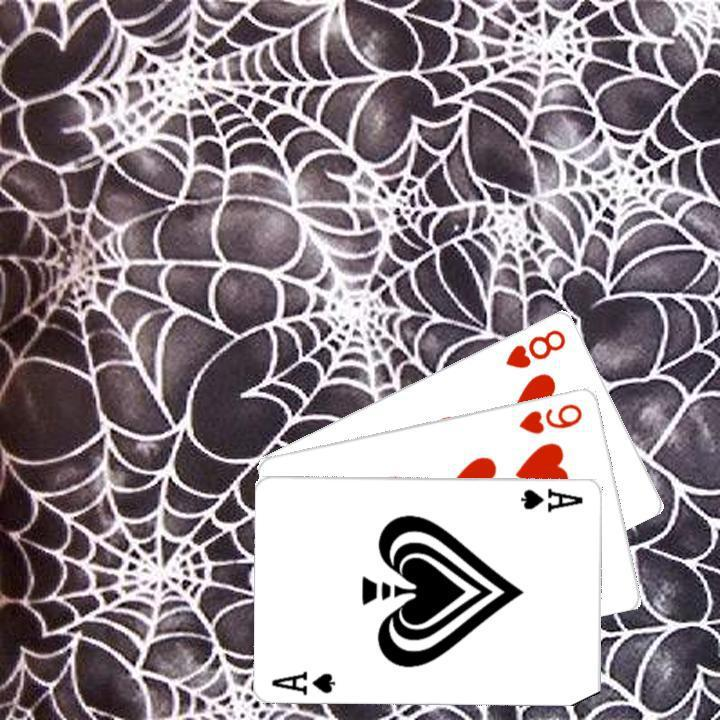8: (501, 324, 568, 370)
9: (515, 398, 585, 436)
A: (517, 483, 586, 514), (267, 667, 338, 697)
